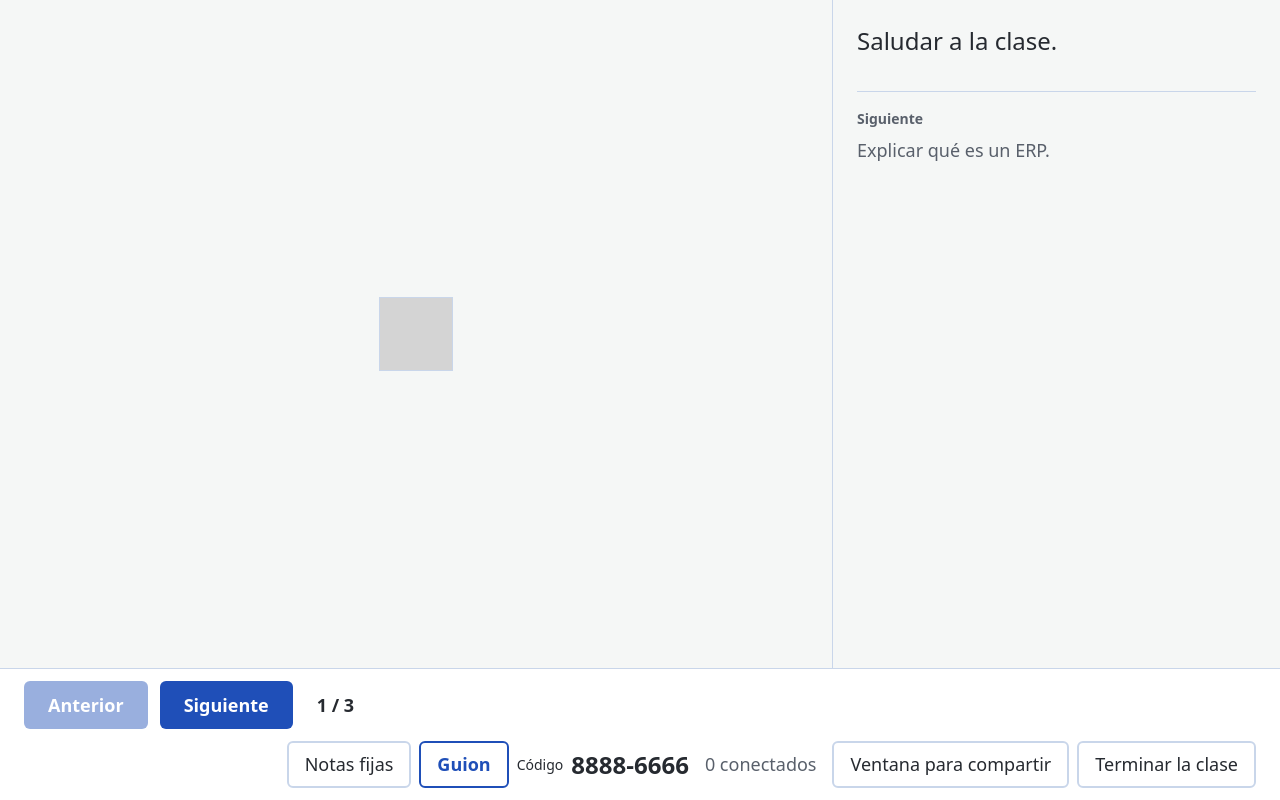
Test: if the server refuses a slide change the view goes back and says so
Click the button "Siguiente" at (226, 705), box [160,681,293,729]
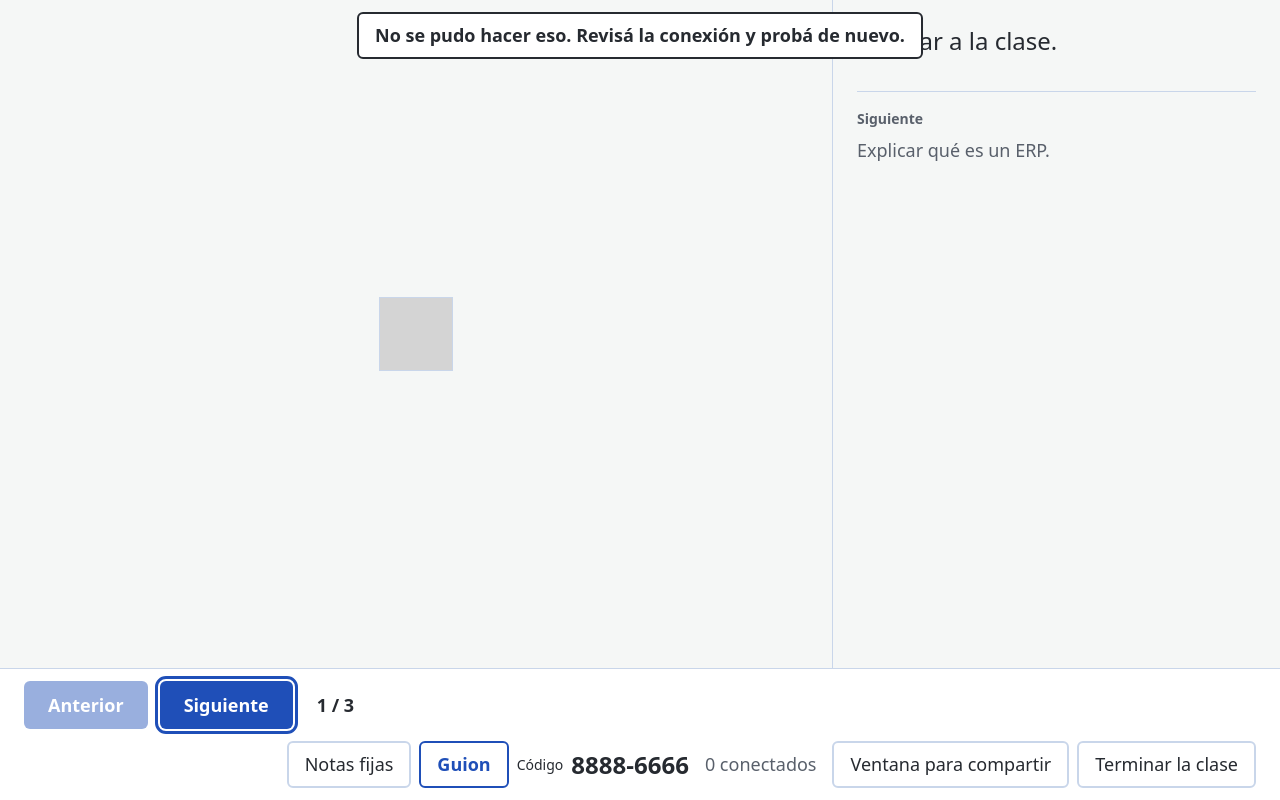
Now the message shows "No se pudo hacer eso.", box [375,23,905,47]
